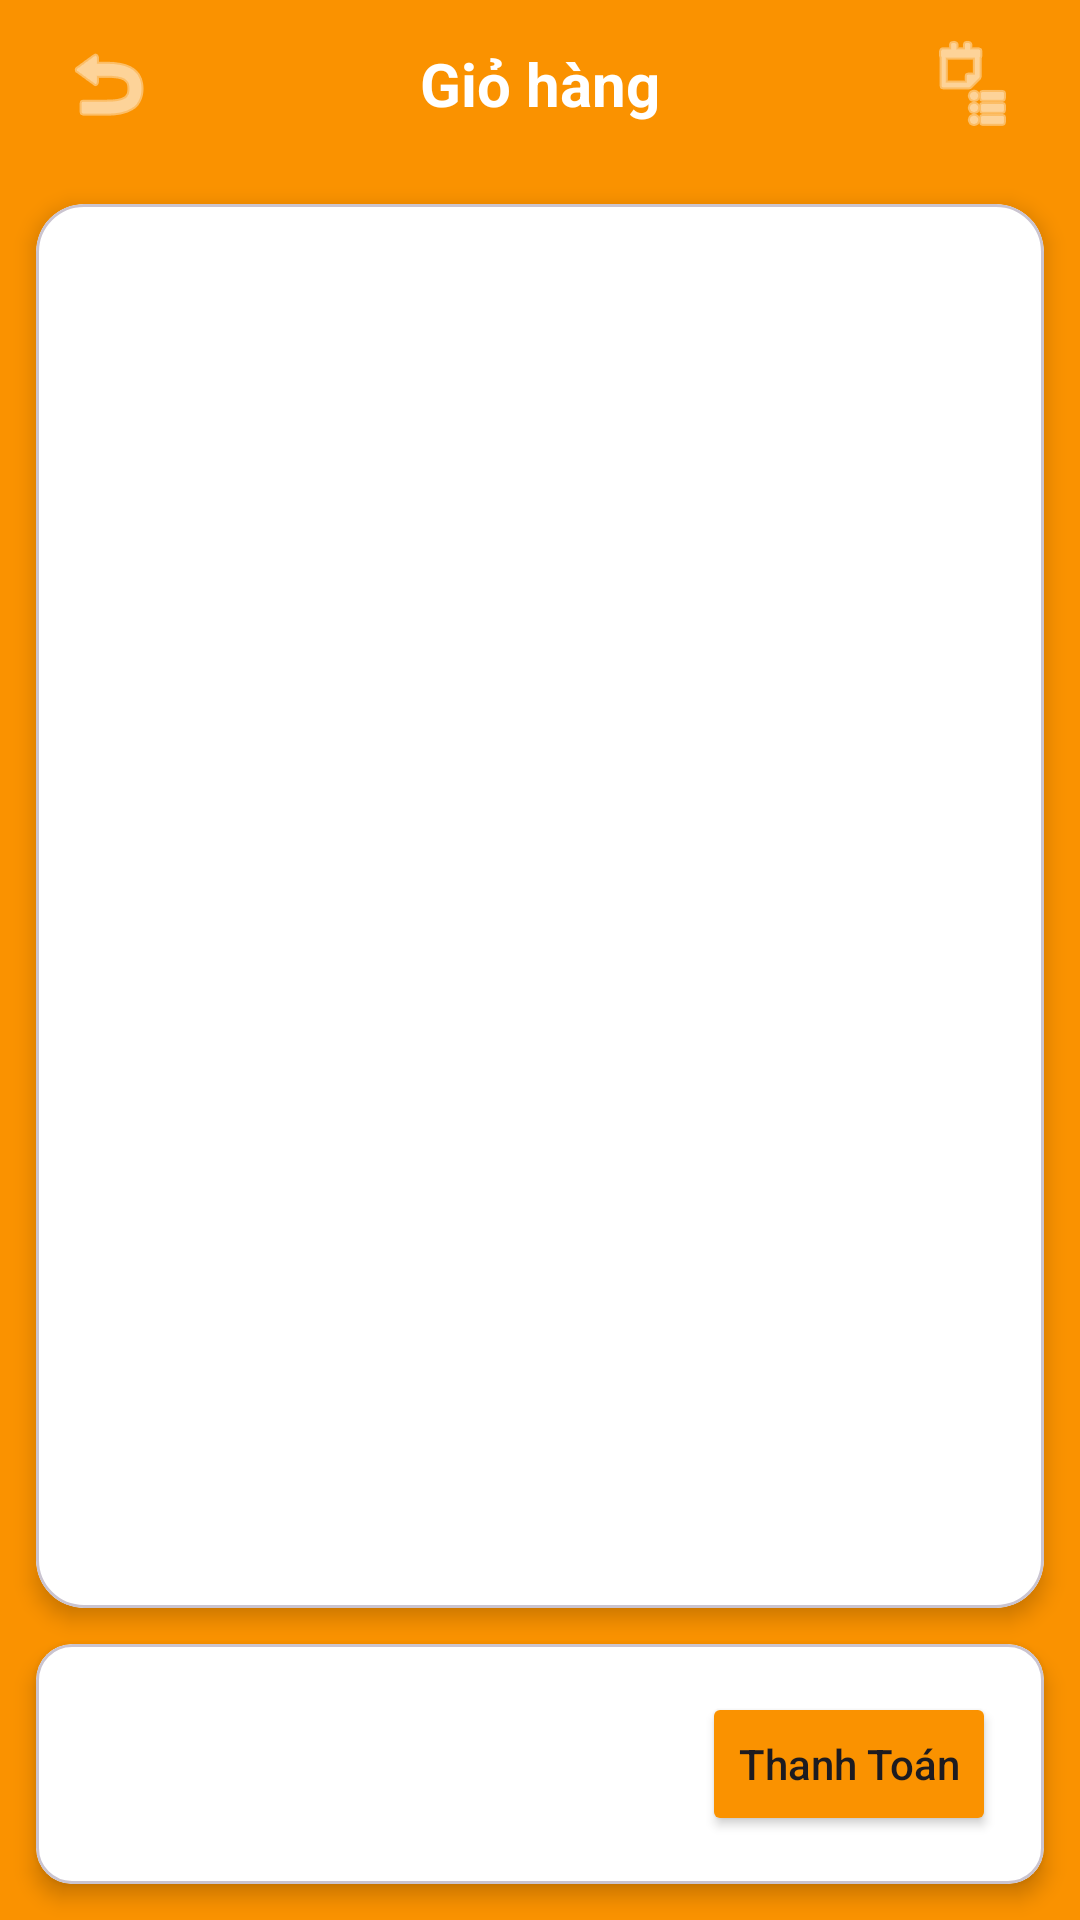

Named icons in this screenshot (1080×1920) and their bounding boxes, (x1, y1, x2, y2):
Back: (75, 53, 144, 116)
